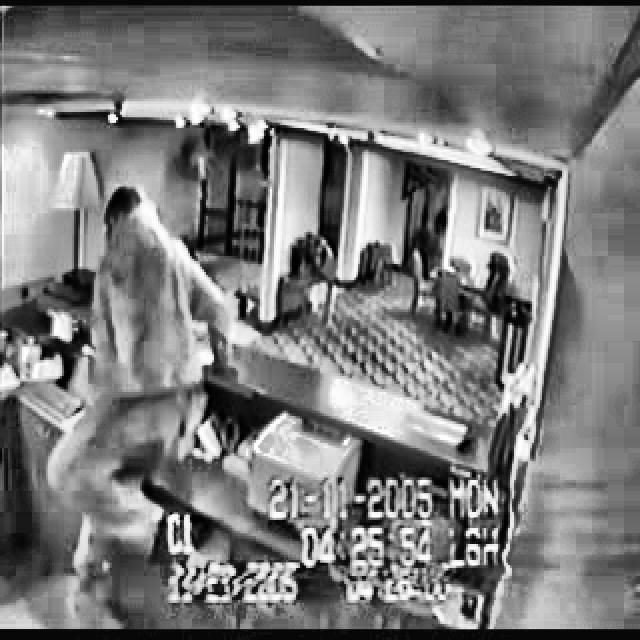burglary: (42, 182, 245, 626)
